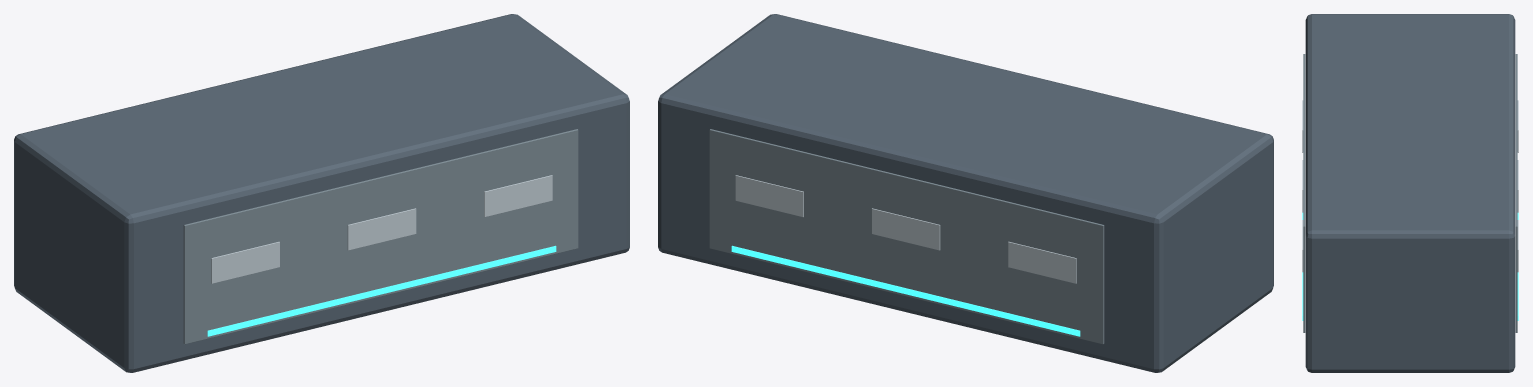
File: service-block.glb
3 views of the same model, side by side, from view 1: azimuth 30°, elevation 25°; view 2: azimuth 150°, elevation 25°; view 3: azimuth 270°, elevation 25° (orthographic). The views are drawn at different scales.
Visible parts, largest first — view 1: Visual_ServiceBlock_Shell, Visual_Merged_ZA_ServiceBlock_Root_Neutral_Steel, Visual_Merged_ZA_ServiceBlock_Root_Interface_White, Visual_Merged_ZA_ServiceBlock_Root_Zero_Cyan_Emissive; view 2: Visual_ServiceBlock_Shell, Visual_Merged_ZA_ServiceBlock_Root_Neutral_Steel, Visual_Merged_ZA_ServiceBlock_Root_Interface_White, Visual_Merged_ZA_ServiceBlock_Root_Zero_Cyan_Emissive; view 3: Visual_ServiceBlock_Shell, Visual_Merged_ZA_ServiceBlock_Root_Neutral_Steel, Visual_Merged_ZA_ServiceBlock_Root_Interface_White, Visual_Merged_ZA_ServiceBlock_Root_Zero_Cyan_Emissive.
Boxes of the visible parts, <box> form: Visual_ServiceBlock_Shell: <box>14,14,629,372</box>; Visual_Merged_ZA_ServiceBlock_Root_Neutral_Steel: <box>183,129,578,344</box>; Visual_Merged_ZA_ServiceBlock_Root_Interface_White: <box>211,175,552,283</box>; Visual_Merged_ZA_ServiceBlock_Root_Zero_Cyan_Emissive: <box>207,245,556,336</box>; Visual_ServiceBlock_Shell: <box>658,14,1273,372</box>; Visual_Merged_ZA_ServiceBlock_Root_Neutral_Steel: <box>709,129,1104,344</box>; Visual_Merged_ZA_ServiceBlock_Root_Interface_White: <box>735,175,1076,283</box>; Visual_Merged_ZA_ServiceBlock_Root_Zero_Cyan_Emissive: <box>731,245,1080,336</box>; Visual_ServiceBlock_Shell: <box>1305,14,1515,372</box>; Visual_Merged_ZA_ServiceBlock_Root_Neutral_Steel: <box>1303,54,1517,332</box>; Visual_Merged_ZA_ServiceBlock_Root_Interface_White: <box>1302,100,1518,272</box>; Visual_Merged_ZA_ServiceBlock_Root_Zero_Cyan_Emissive: <box>1302,212,1518,320</box>.
Bounding box in the file's own units: 10 × 3 × 4.13.
